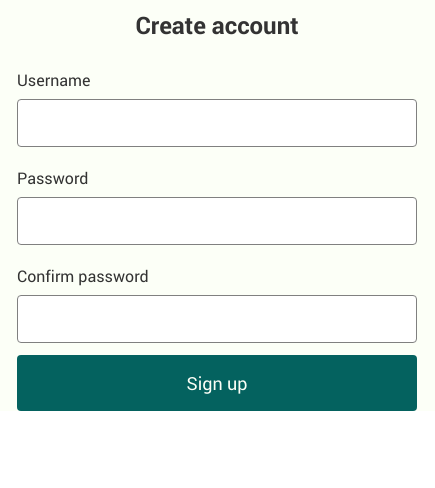
Test case: Username input with too short username
Type "use" into the field labelled "Username". click: x=217, y=123
box: x1=17 y1=99 x2=417 y2=147
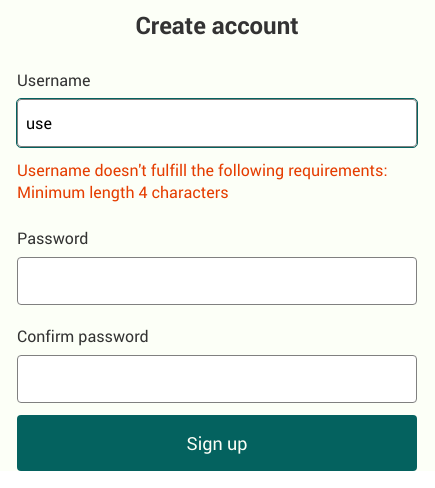
Now the text "Username doesn't fulfill" is shown, box x1=17 y1=159 x2=387 y2=203
